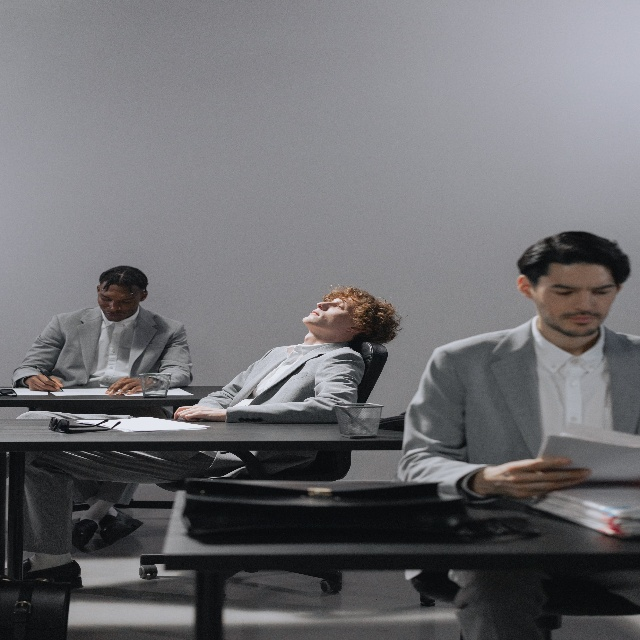Gafas: (48, 411, 122, 431), (1, 388, 17, 398)
Sin_guantes: (480, 459, 587, 498), (174, 401, 227, 424), (108, 370, 143, 398), (29, 373, 62, 393)
